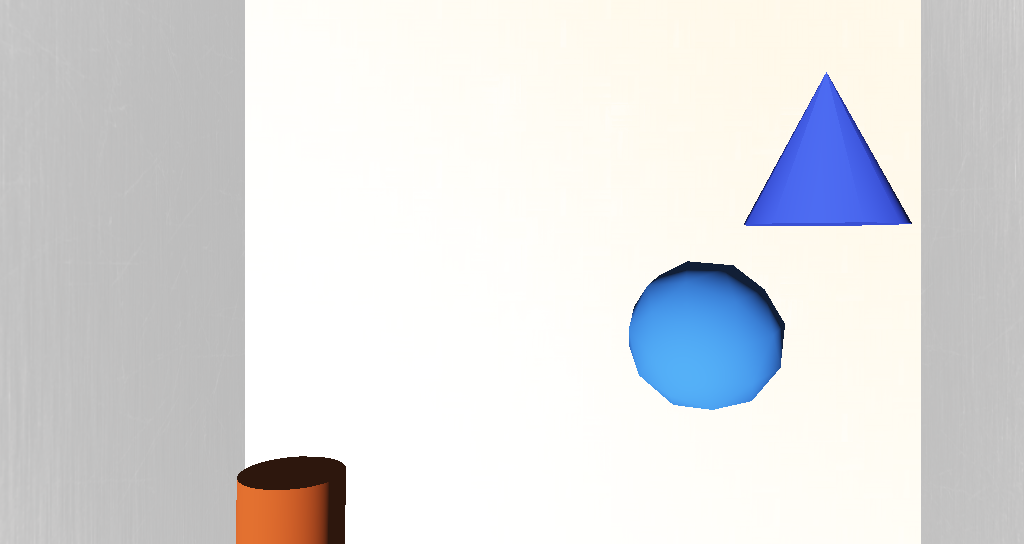cone: (350, 327, 404, 379)
cylinder: (573, 205, 640, 253)
sphere: (519, 262, 586, 310)
